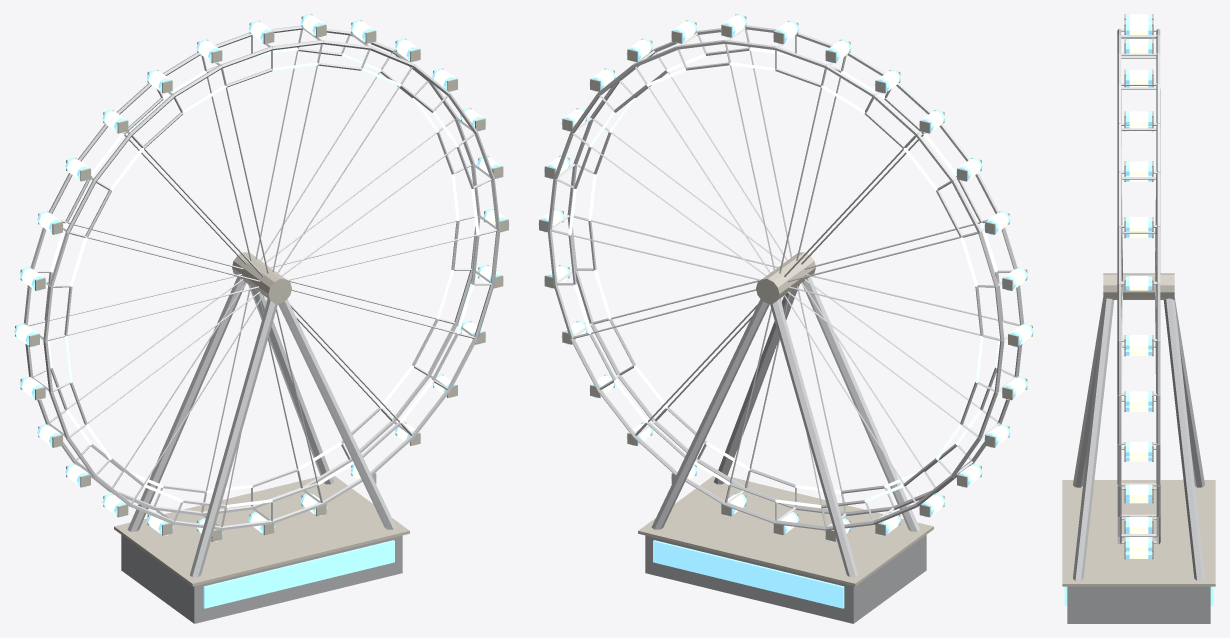
The model's file is singapore_flyer.glb.
The picture shows the model from 3 angles, left to right: view 1: azimuth 30°, elevation 25°; view 2: azimuth 150°, elevation 25°; view 3: azimuth 270°, elevation 25°; orthographic projection. The views are drawn at different scales.
Parts seen in each view (by area): view 1: singapore_flyer_flyer_white_steel, singapore_flyer_flyer_hub_champagne, singapore_flyer_flyer_capsule_glass, singapore_flyer_flyer_terminal_stone, singapore_flyer_flyer_capsule_light, singapore_flyer_flyer_rim_glow; view 2: singapore_flyer_flyer_white_steel, singapore_flyer_flyer_hub_champagne, singapore_flyer_flyer_capsule_glass, singapore_flyer_flyer_terminal_stone, singapore_flyer_flyer_capsule_light, singapore_flyer_flyer_rim_glow; view 3: singapore_flyer_flyer_white_steel, singapore_flyer_flyer_hub_champagne, singapore_flyer_flyer_terminal_stone, singapore_flyer_flyer_capsule_light, singapore_flyer_flyer_capsule_glass.
Boxes of the visible parts, bbox=[...] form: singapore_flyer_flyer_white_steel: bbox=[23, 25, 500, 577]; singapore_flyer_flyer_hub_champagne: bbox=[15, 14, 508, 586]; singapore_flyer_flyer_capsule_glass: bbox=[14, 14, 509, 608]; singapore_flyer_flyer_terminal_stone: bbox=[121, 535, 402, 623]; singapore_flyer_flyer_capsule_light: bbox=[16, 15, 505, 533]; singapore_flyer_flyer_rim_glow: bbox=[44, 48, 479, 507]; singapore_flyer_flyer_white_steel: bbox=[547, 25, 1023, 577]; singapore_flyer_flyer_hub_champagne: bbox=[539, 14, 1032, 586]; singapore_flyer_flyer_capsule_glass: bbox=[538, 14, 1033, 608]; singapore_flyer_flyer_terminal_stone: bbox=[645, 535, 926, 623]; singapore_flyer_flyer_capsule_light: bbox=[542, 15, 1031, 533]; singapore_flyer_flyer_rim_glow: bbox=[568, 47, 1003, 507]; singapore_flyer_flyer_white_steel: bbox=[1073, 29, 1204, 580]; singapore_flyer_flyer_hub_champagne: bbox=[1062, 14, 1215, 586]; singapore_flyer_flyer_terminal_stone: bbox=[1067, 586, 1210, 623]; singapore_flyer_flyer_capsule_light: bbox=[1129, 14, 1148, 558]; singapore_flyer_flyer_capsule_glass: bbox=[1064, 14, 1213, 605].
Bounding box in the file's own units: 107 × 115 × 30.
